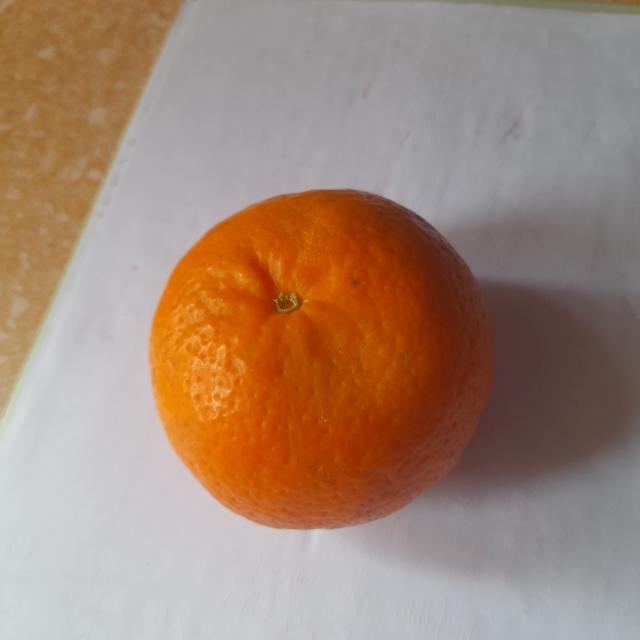Cam: (140, 181, 500, 536)
